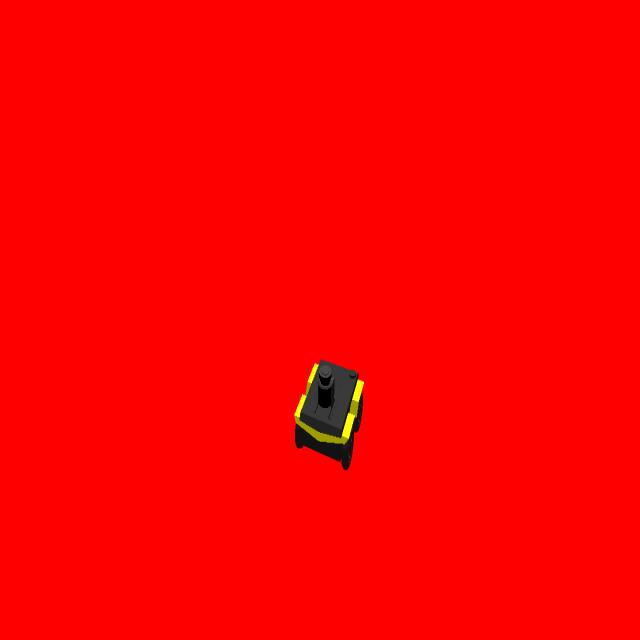jackal: (289, 349, 367, 477)
